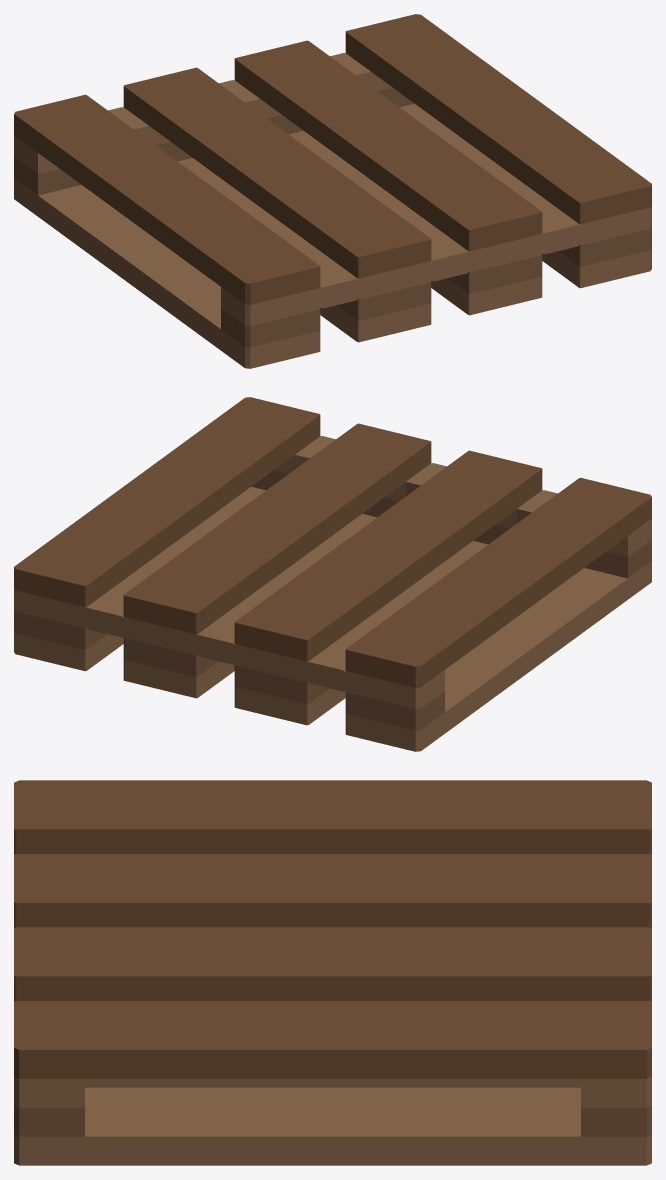
The model's file is BigPallet.fbx.
3 views of the same model, one above another, from view 1: azimuth 30°, elevation 25°; view 2: azimuth 150°, elevation 25°; view 3: azimuth 270°, elevation 25° (orthographic). The views are drawn at different scales.
Visible parts, largest first — view 1: BigPallet; view 2: BigPallet; view 3: BigPallet.
Boxes of the visible parts, x1,y1,x2,y2 form: BigPallet: [14, 14, 651, 368]; BigPallet: [14, 397, 651, 751]; BigPallet: [14, 780, 651, 1165].
Size of the model in its own units: 100 by 20 by 100.
